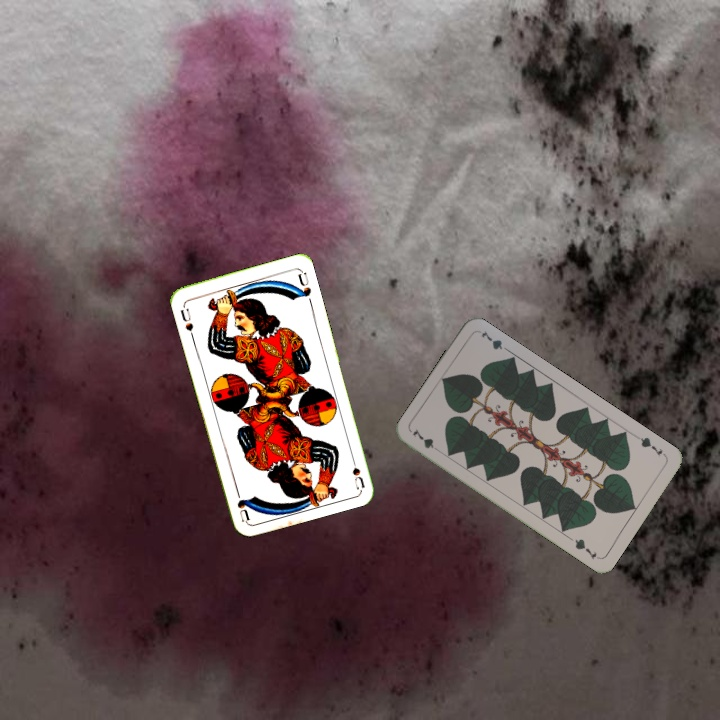G7: (408, 424, 444, 455), (632, 432, 665, 459)
SU: (346, 450, 367, 490), (176, 301, 196, 341)
